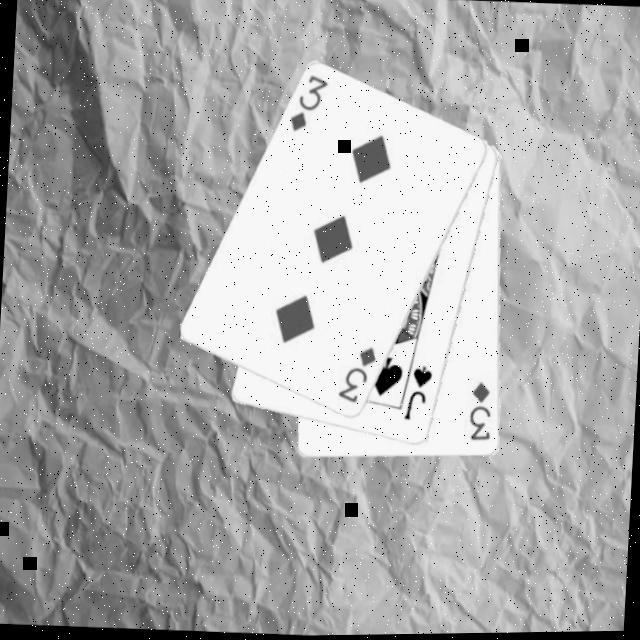3D: (336, 343, 381, 409), (287, 71, 332, 137), (466, 379, 497, 444)
JS: (402, 362, 437, 424)
